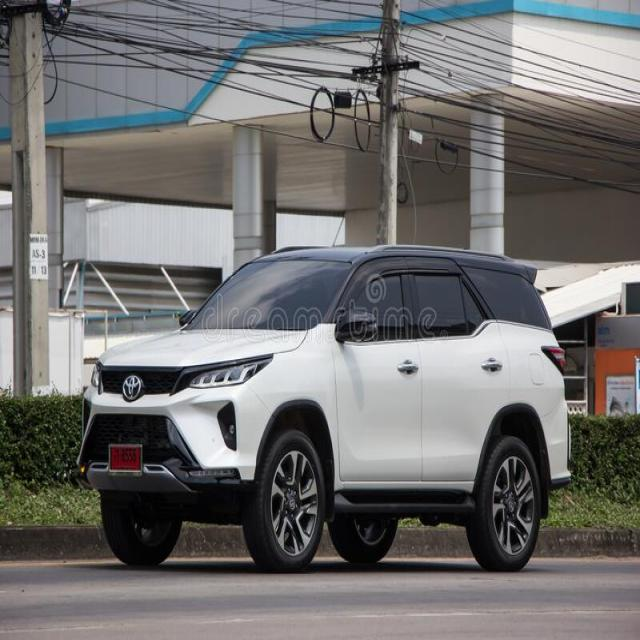light_vehicle: (76, 244, 574, 574)
